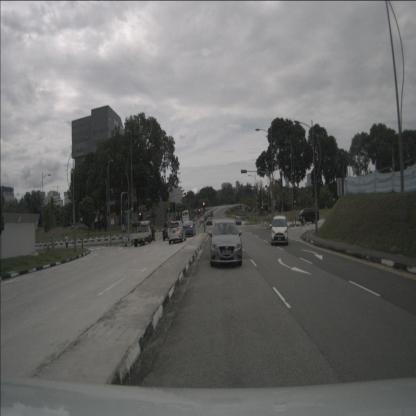human-pedestrian-adult: (64, 234, 68, 249)
vehicle-bus-rigid: (182, 210, 190, 229)
vehicle-car: (210, 218, 242, 266), (271, 216, 288, 245), (168, 221, 186, 244), (298, 208, 319, 224), (162, 221, 176, 241), (182, 221, 196, 237), (236, 216, 242, 226), (207, 216, 212, 226)
vehicle-motorcycle: (151, 225, 156, 242)
vehicle-truck: (131, 221, 152, 247)
